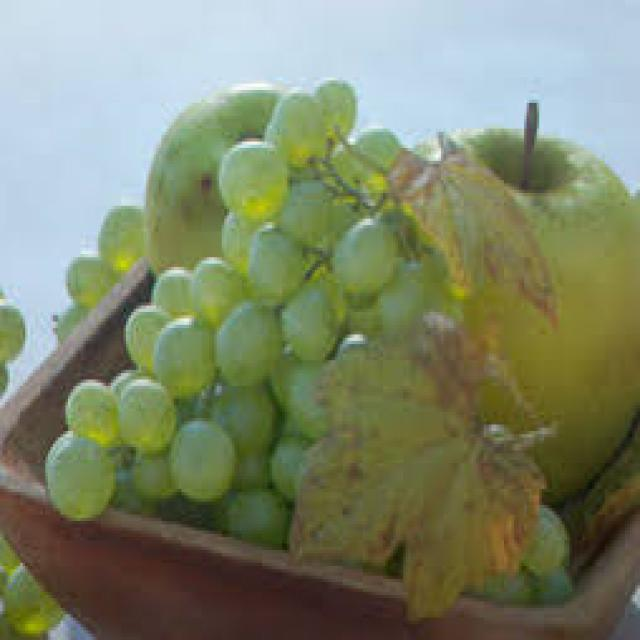organic waste: (423, 132, 638, 498), (285, 312, 544, 611), (386, 132, 554, 331), (146, 80, 295, 290), (41, 424, 114, 518), (151, 312, 214, 412), (214, 299, 282, 389), (171, 418, 232, 505), (207, 386, 277, 460), (0, 556, 60, 636), (277, 277, 335, 357), (219, 142, 285, 212), (214, 482, 287, 544), (113, 376, 174, 444), (126, 305, 174, 386), (250, 225, 298, 306), (338, 222, 390, 296), (189, 260, 242, 332), (275, 94, 325, 168), (290, 177, 350, 238), (381, 261, 434, 328), (63, 379, 113, 444), (96, 202, 141, 274), (146, 267, 194, 331), (219, 209, 265, 273), (529, 502, 567, 576), (131, 447, 179, 505), (355, 128, 396, 190), (65, 251, 111, 299), (267, 434, 302, 495), (317, 77, 353, 135), (481, 560, 534, 598), (345, 290, 388, 334), (53, 296, 88, 334), (0, 296, 20, 357), (537, 563, 567, 598), (0, 360, 3, 392)
